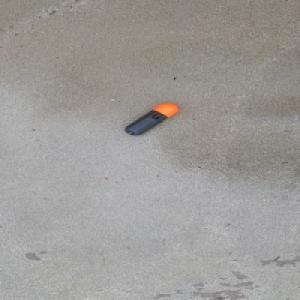PlasticPart: (123, 102, 179, 135)
